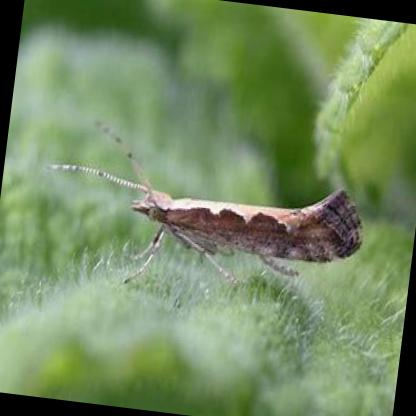plutella: (40, 114, 366, 296)
